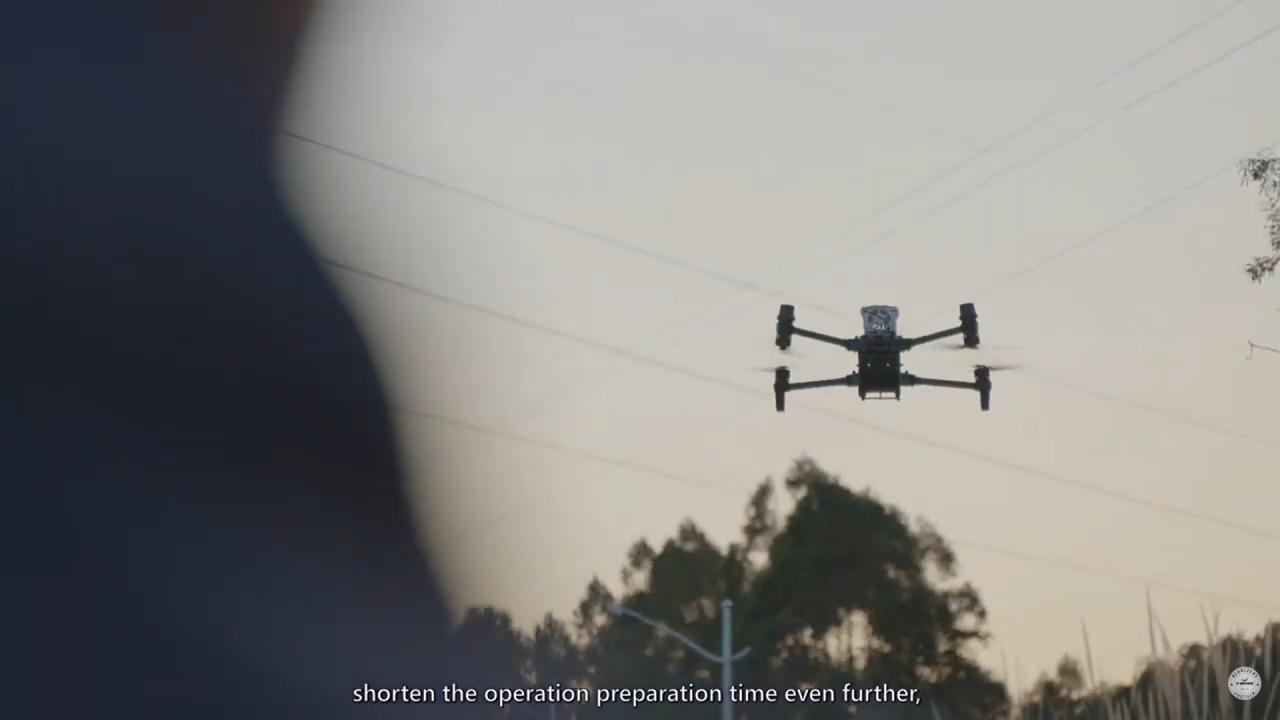Drone: (756, 288, 1018, 428)
